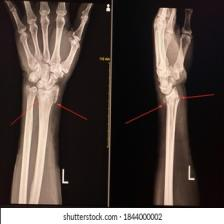intra-articular-fracture: (4, 0, 202, 208)
